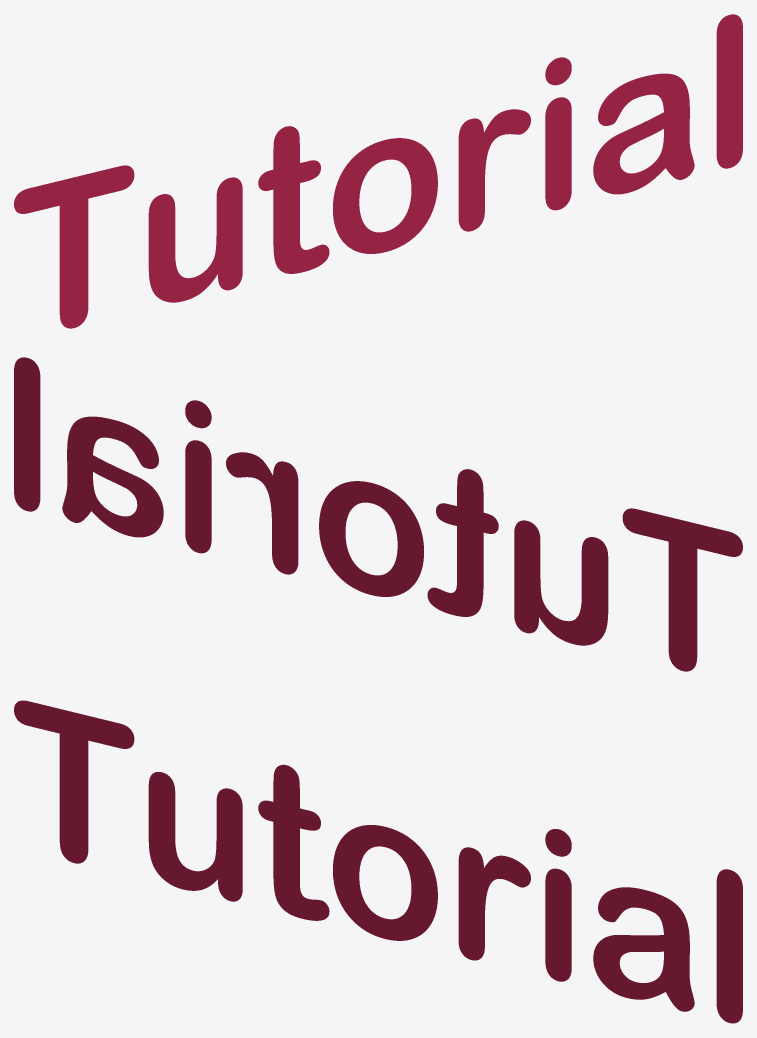
File: tutorialSelectText.obj
3 views of the same model, one above another, from view 1: azimuth 30°, elevation 25°; view 2: azimuth 150°, elevation 25°; view 3: azimuth 330°, elevation 25° (orthographic).
Parts seen in each view (by area): view 1: テキスト; view 2: テキスト; view 3: テキスト.
Part boxes in pixels (bbox=[...]): テキスト: bbox=[14, 14, 742, 328]; テキスト: bbox=[14, 357, 742, 671]; テキスト: bbox=[14, 700, 742, 1023].
Bounding box in the file's own units: 3.15 × 0.6333 × 0.
